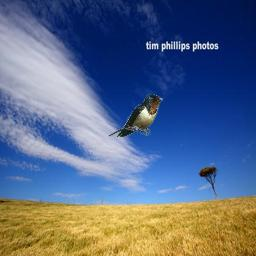Swallow: (108, 94, 163, 137)
